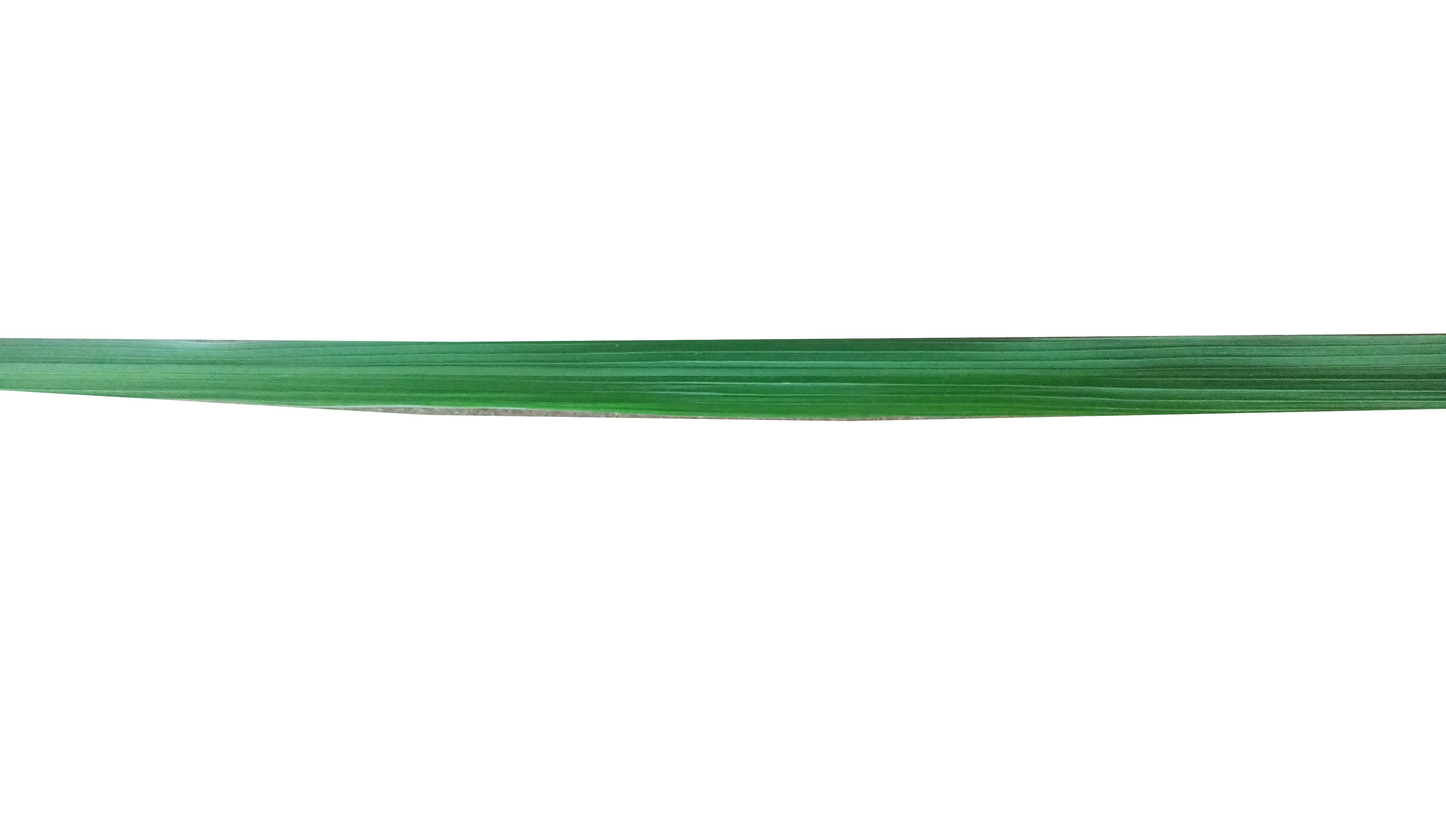Healthy: (1, 336, 1446, 416)
